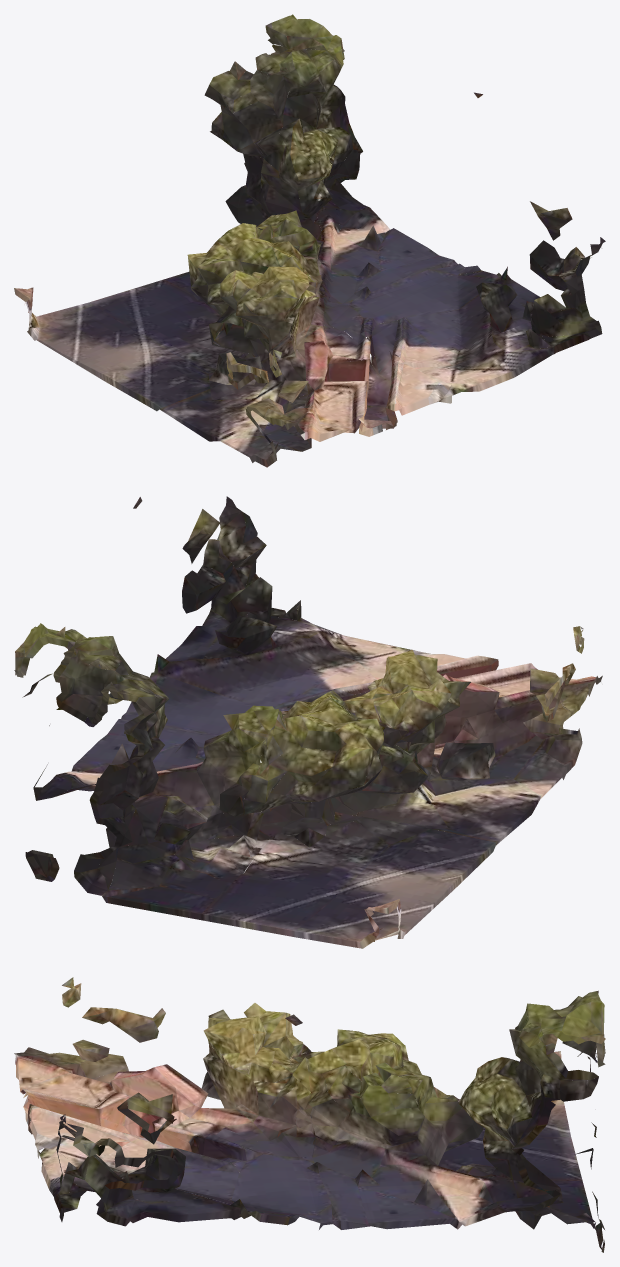
3 views of the same model, one above another, from view 1: azimuth 30°, elevation 25°; view 2: azimuth 150°, elevation 25°; view 3: azimuth 270°, elevation 25° (orthographic). The views are drawn at different scales.
Parts seen in each view (by area): view 1: Mesh_0; view 2: Mesh_0; view 3: Mesh_0.
Part boxes in pixels (x1,y1,x2,y2): Mesh_0: (14,14,605,467); Mesh_0: (14,496,602,948); Mesh_0: (14,977,605,1252).
Bounding box in the file's own units: 33.63 × 21.1 × 41.36.
2 materials, 2 textured.
